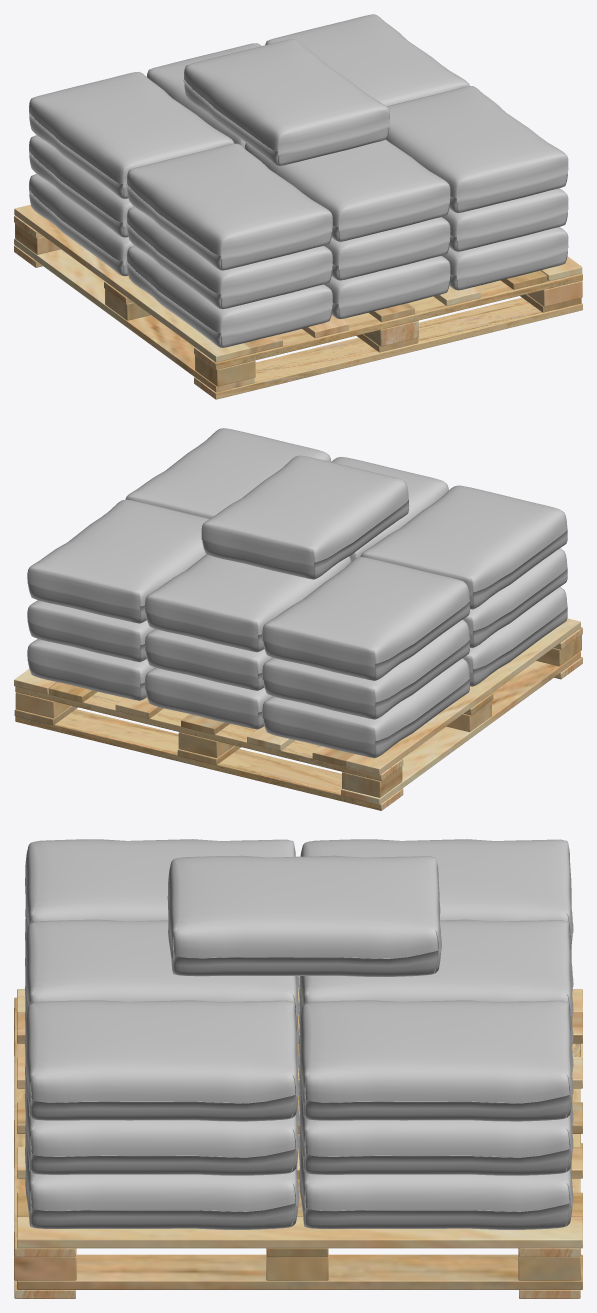
Rendered from monton cemento.FBX.
The picture shows the model from 3 angles, top to bottom: view 1: azimuth 30°, elevation 25°; view 2: azimuth 150°, elevation 25°; view 3: azimuth 270°, elevation 25°; orthographic projection. The views are drawn at different scales.
Parts seen in each view (by area): view 1: Pallet, Cemento_015, Cemento_019, Cemento_013, Cemento_018, Cemento_014, Cemento_016, Cemento_009, Cemento_003, Cemento_007, Cemento_001, Cemento_008 (+4 smaller); view 2: Pallet, Cemento_018, Cemento_019, Cemento_016, Cemento_015, Cemento_017, Cemento_013, Cemento_006, Cemento_012, Cemento_010, Cemento_004, Cemento_011 (+4 smaller); view 3: Pallet, Cemento_016, Cemento_013, Cemento_019, Cemento_014, Cemento_010, Cemento_007, Cemento_004, Cemento_001, Cemento_017, Cemento_015, Cemento_018.
Boxes of the visible parts, x1,y1,x2,y2 form: Pallet: (14,204,582,399); Cemento_015: (126,143,332,270); Cemento_019: (183,39,389,166); Cemento_013: (386,86,568,213); Cemento_018: (29,72,234,198); Cemento_014: (244,139,450,241); Cemento_016: (265,14,469,106); Cemento_009: (126,207,332,309); Cemento_003: (126,245,332,347); Cemento_007: (442,188,568,251); Cemento_001: (442,227,568,290); Cemento_008: (324,217,450,280); Pallet: (14,618,582,810); Cemento_018: (262,557,469,680); Cemento_019: (201,455,409,579); Cemento_016: (27,499,209,623); Cemento_015: (360,485,567,609); Cemento_017: (145,554,351,652); Cemento_013: (125,428,331,518); Cemento_006: (262,658,469,758); Cemento_012: (262,619,469,719); Cemento_010: (27,600,154,662); Cemento_004: (27,639,155,700); Cemento_011: (145,629,272,690); Pallet: (14,989,582,1298); Cemento_016: (299,1000,573,1121); Cemento_013: (25,1000,299,1121); Cemento_019: (167,855,441,976); Cemento_014: (25,919,299,1030); Cemento_010: (299,1080,573,1175); Cemento_007: (25,1080,299,1175); Cemento_004: (299,1134,573,1229); Cemento_001: (25,1134,299,1229); Cemento_017: (299,919,573,1029); Cemento_015: (25,839,295,930); Cemento_018: (300,839,573,949).
Size of the model in its own units: 216 by 112 by 207.
